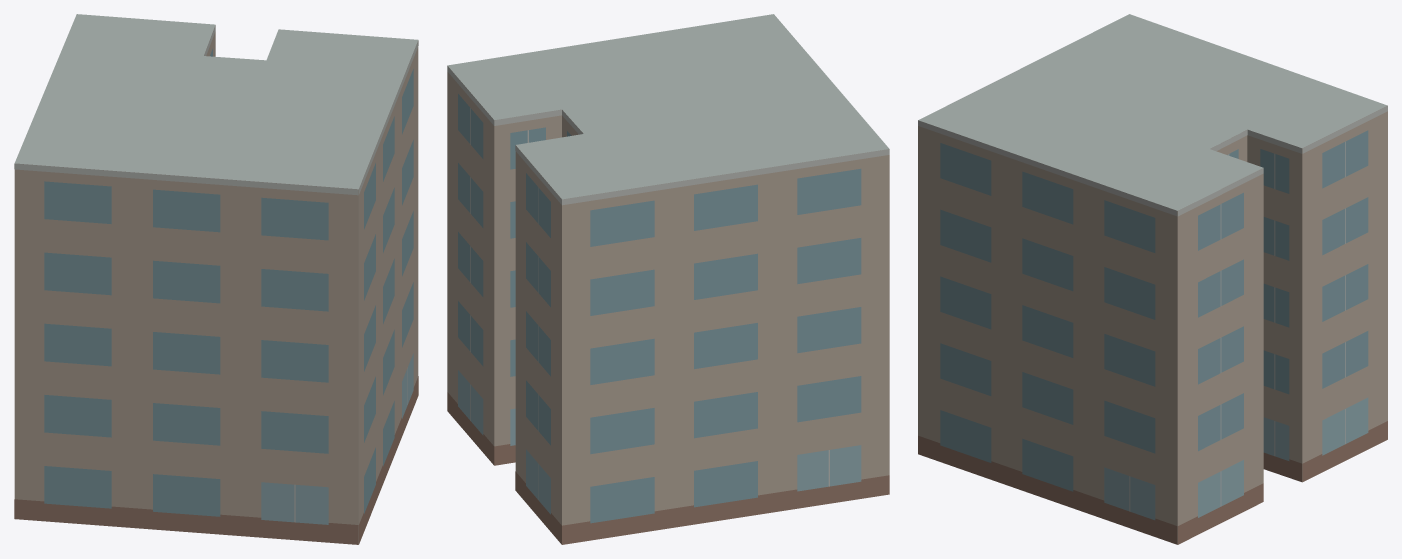
Rendered from survey-upis-32888579.glb.
3 renders of one model, left to right at view 1: azimuth 30°, elevation 25°; view 2: azimuth 150°, elevation 25°; view 3: azimuth 270°, elevation 25°, orthographic. The views are drawn at different scales.
Parts seen in each view (by area): view 1: survey-upis-32888579.tmp; view 2: survey-upis-32888579.tmp; view 3: survey-upis-32888579.tmp.
Part boxes in pixels (x1,y1,x2,y2): survey-upis-32888579.tmp: (14,14,418,544); survey-upis-32888579.tmp: (447,14,889,544); survey-upis-32888579.tmp: (918,14,1387,544).
Size of the model in its own units: 18.22 by 14.4 by 18.36.
